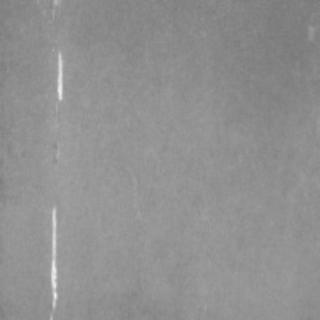scratches: (38, 200, 64, 316), (49, 46, 66, 104)
